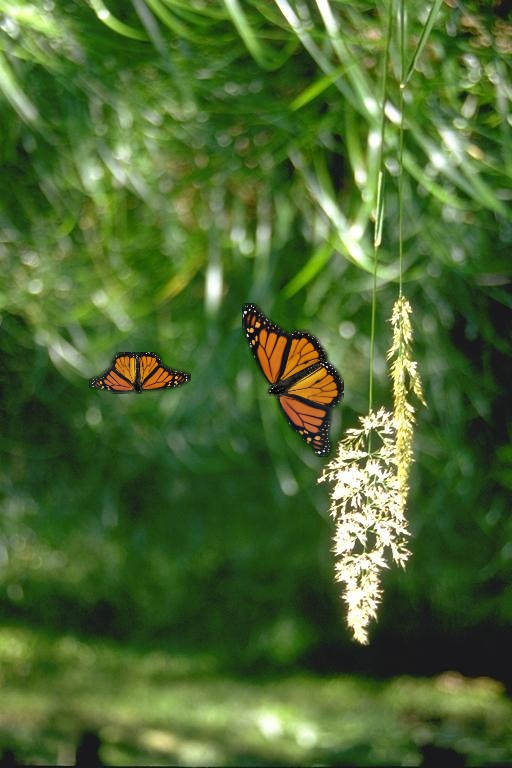danaus_plexippus: (242, 303, 344, 457), (89, 352, 191, 394)
